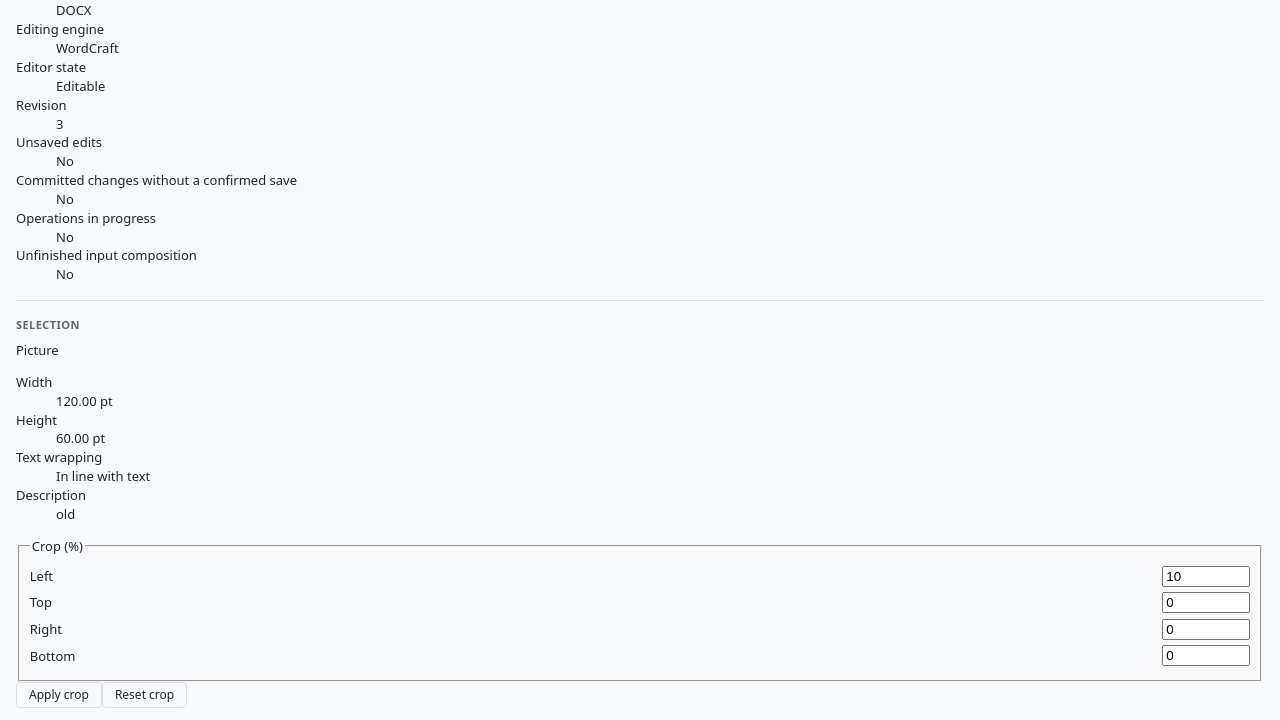
object tools in the properties panel › refuses an out-of-range crop and hides controls the object does not admit
The width and height of the screenshot is (1280, 720).
(page scrolled)
Replace the text in the number field labelled "Left" with "46" at (1206, 576), box top-left (1162, 566), bottom-right (1250, 587)
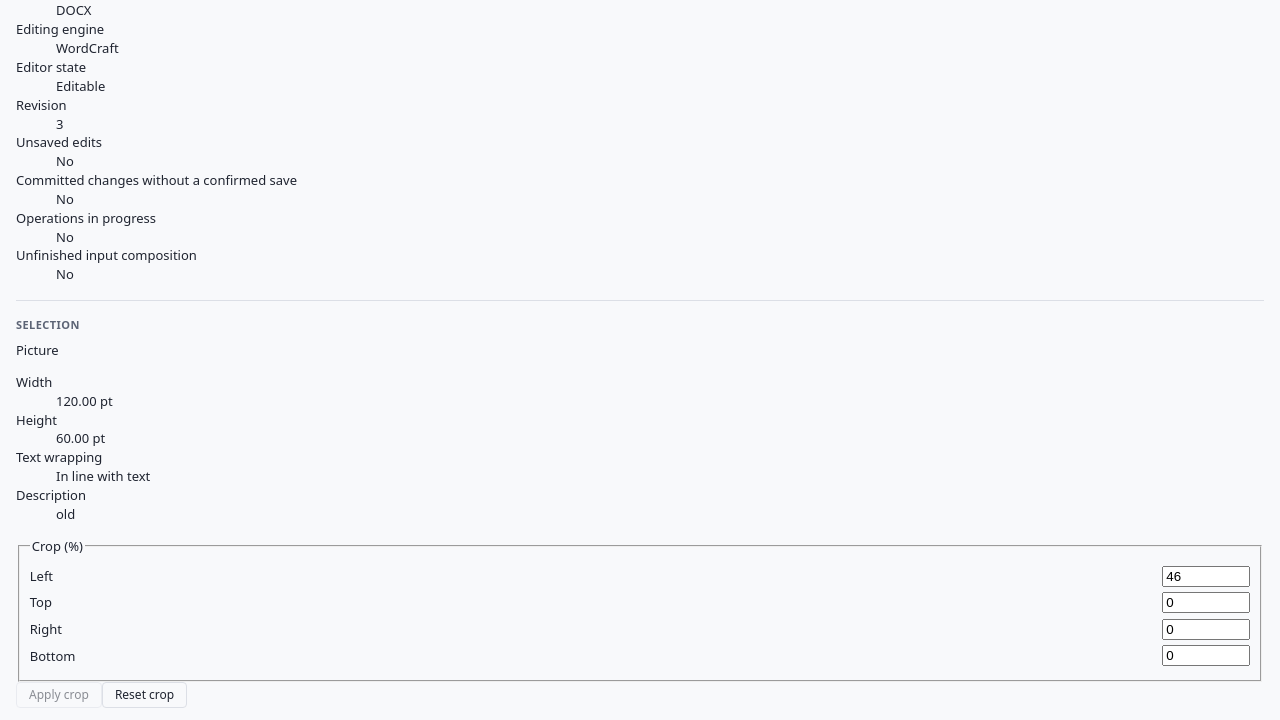
Check: the button "Apply crop" is disabled, box top-left (16, 682), bottom-right (102, 708)
